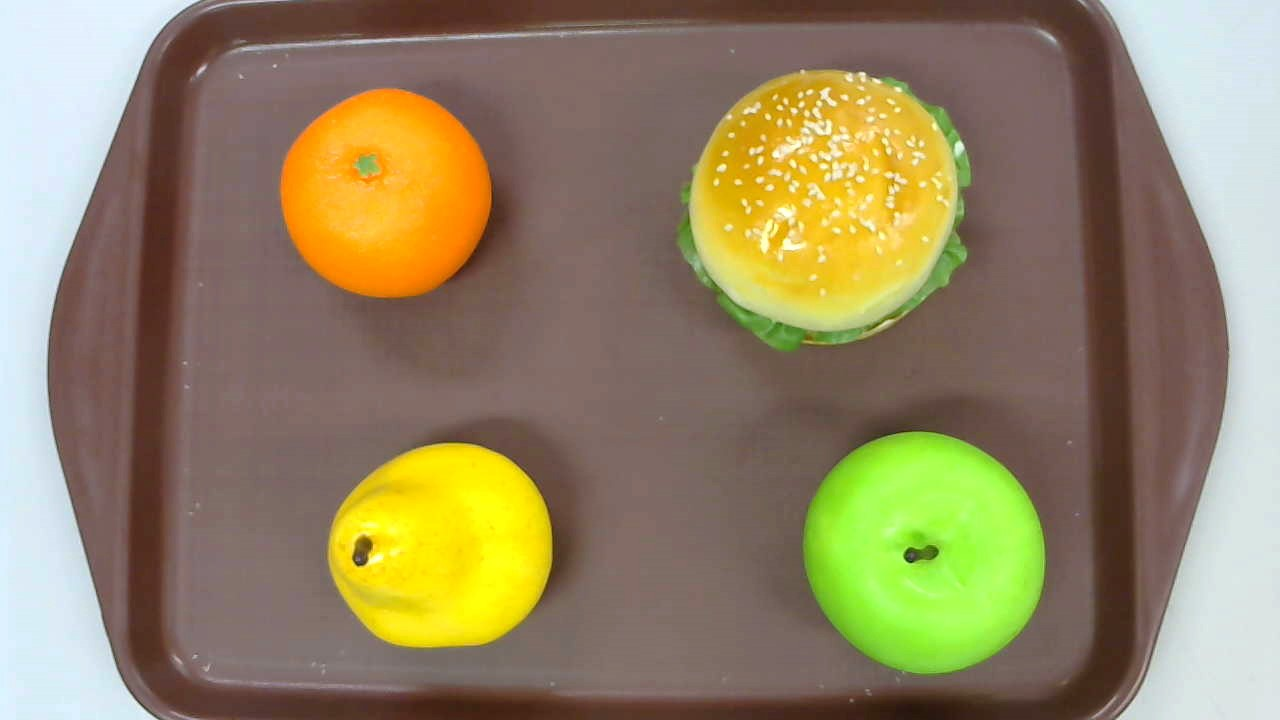green apple: (803, 431, 1045, 673)
hamburger: (677, 67, 972, 350)
orange: (280, 88, 491, 299)
yellow pear: (327, 441, 553, 647)
